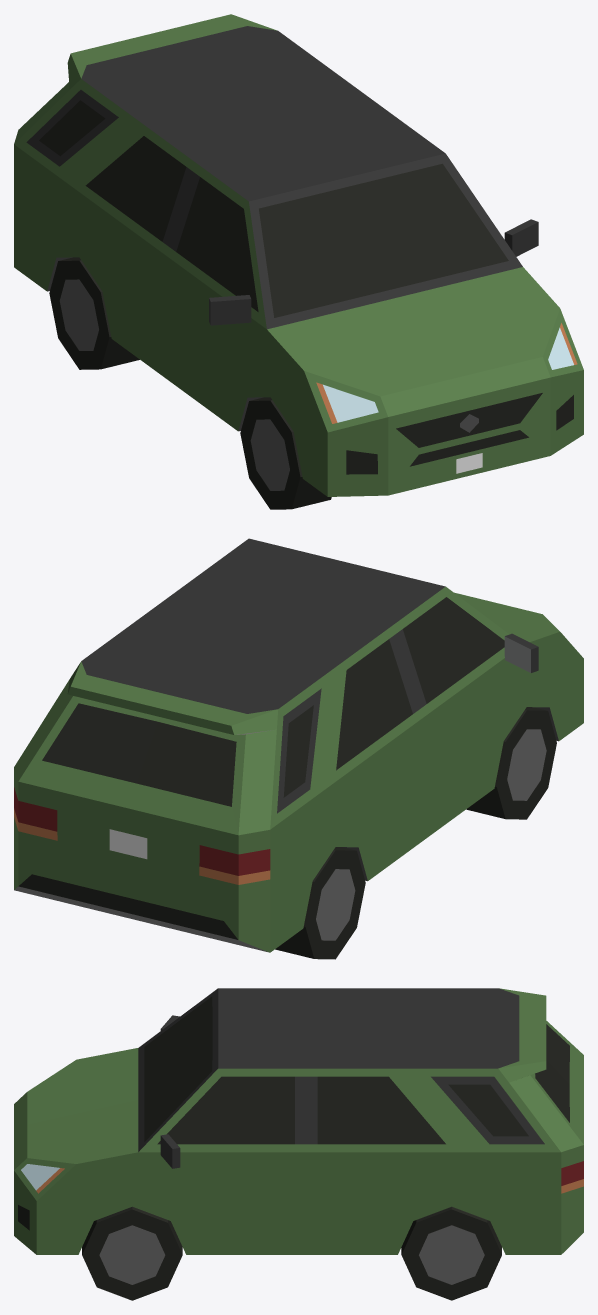
The model's file is Veh_SUV_01_Green.obj.
3 views of the same model, one above another, from view 1: azimuth 30°, elevation 25°; view 2: azimuth 150°, elevation 25°; view 3: azimuth 270°, elevation 25° (orthographic). The views are drawn at different scales.
Size of the model in its own units: 1.33 by 1.02 by 2.4.
